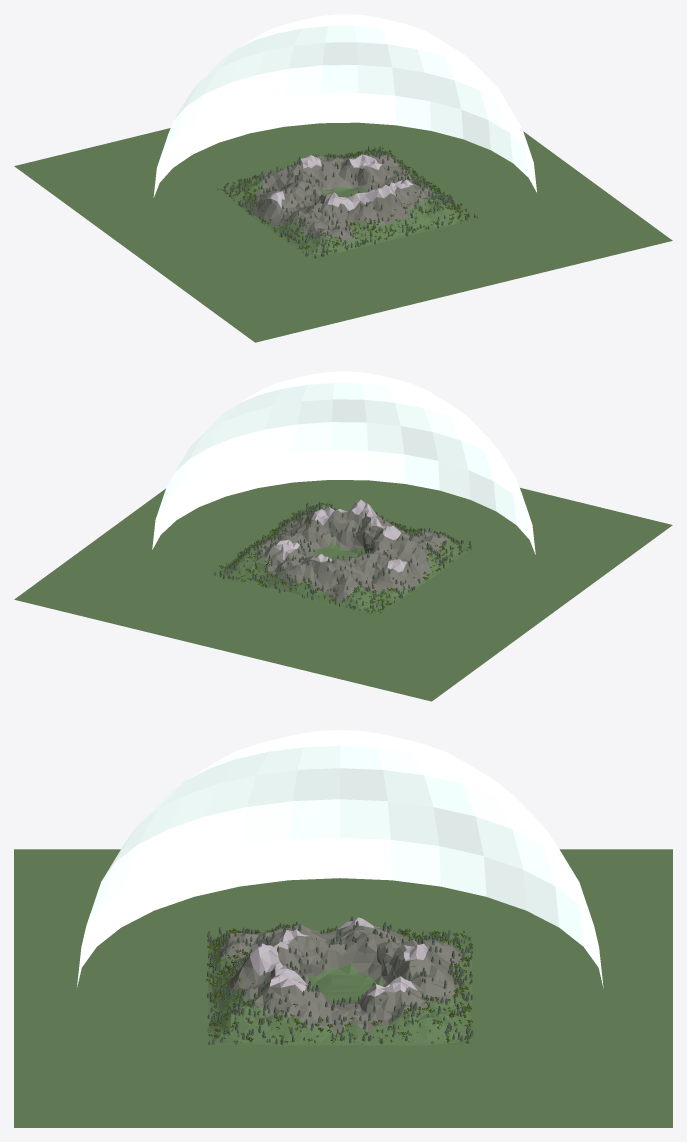
The model's file is valley_lanscape2.glb.
The picture shows the model from 3 angles, top to bottom: view 1: azimuth 30°, elevation 25°; view 2: azimuth 150°, elevation 25°; view 3: azimuth 270°, elevation 25°; orthographic projection. The views are drawn at different scales.
Parts seen in each view (by area): view 1: Plane, Sphere, Landscape; view 2: Plane, Sphere, Landscape; view 3: Plane, Sphere, Landscape.
Part boxes in pixels (<box>): Plane: <box>14,122,672,342</box>; Sphere: <box>153,14,536,197</box>; Landscape: <box>214,148,476,258</box>; Plane: <box>14,480,672,701</box>; Sphere: <box>152,371,535,554</box>; Landscape: <box>212,499,472,616</box>; Plane: <box>14,849,672,1127</box>; Sphere: <box>77,730,603,988</box>; Landscape: <box>208,917,472,1045</box>.
Size of the model in its own units: 12.48 by 5.64 by 12.48.
